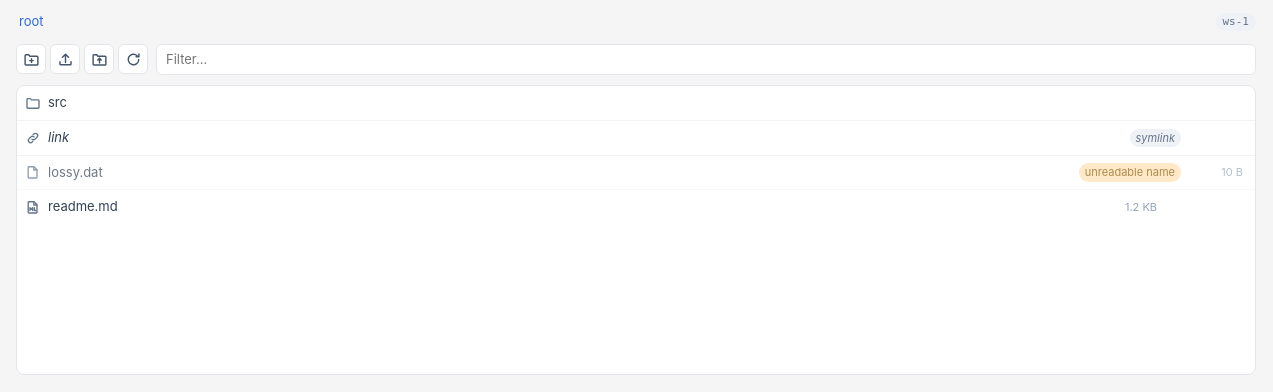
FileBrowser filter › clears the filter when navigating so the new directory is never silently hidden
Type "src" into the search field with test id "file-browser-filter". click: [706, 59]
box: [156, 44, 1256, 75]
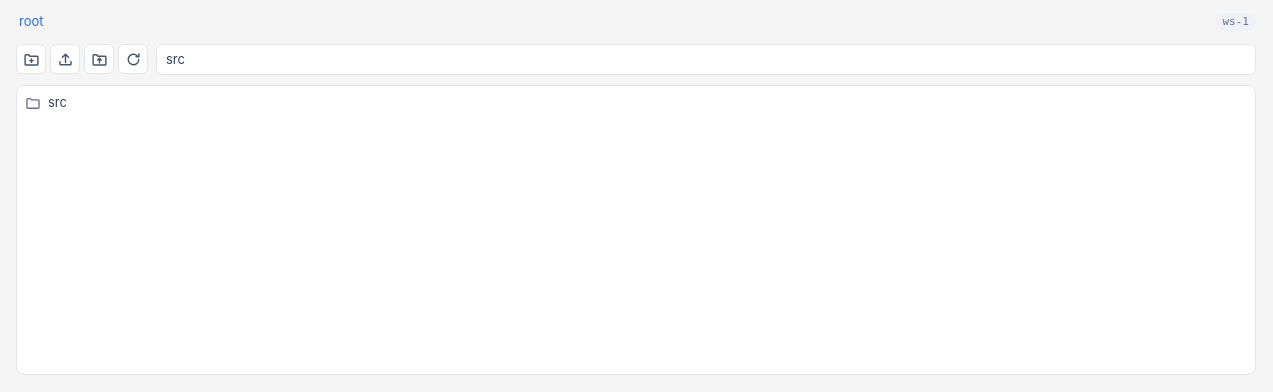
Click the button with test id "file-entry-name-src". click: [33, 103]
box: [23, 90, 1151, 116]
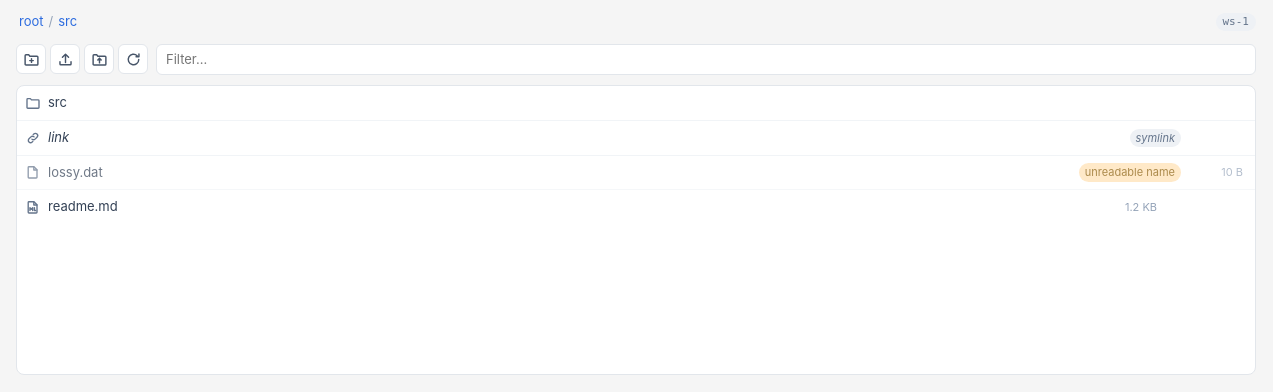
Check: the search field with test id "file-browser-filter" is empty, box [156, 44, 1256, 75]
Check: the list item with test id "file-entry-readme.md" is shown, box [17, 190, 1255, 224]
